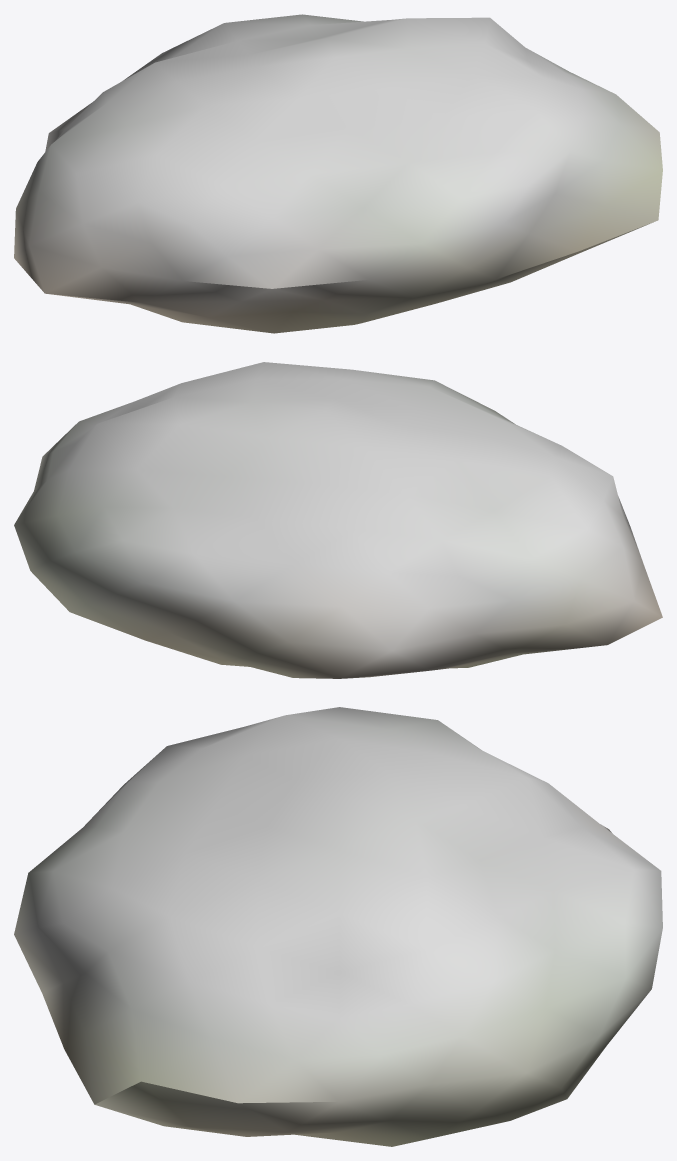
File: boulder_flat_v1.glb
The picture shows the model from 3 angles, top to bottom: view 1: azimuth 30°, elevation 25°; view 2: azimuth 150°, elevation 25°; view 3: azimuth 270°, elevation 25°; orthographic projection. The views are drawn at different scales.
Parts seen in each view (by area): view 1: Boulder; view 2: Boulder; view 3: Boulder.
Boxes of the visible parts, bbox=[...] form: Boulder: bbox=[14, 14, 662, 333]; Boulder: bbox=[14, 362, 662, 678]; Boulder: bbox=[14, 707, 662, 1146].
Bounding box in the file's own units: 2.06 × 0.7421 × 1.59.
